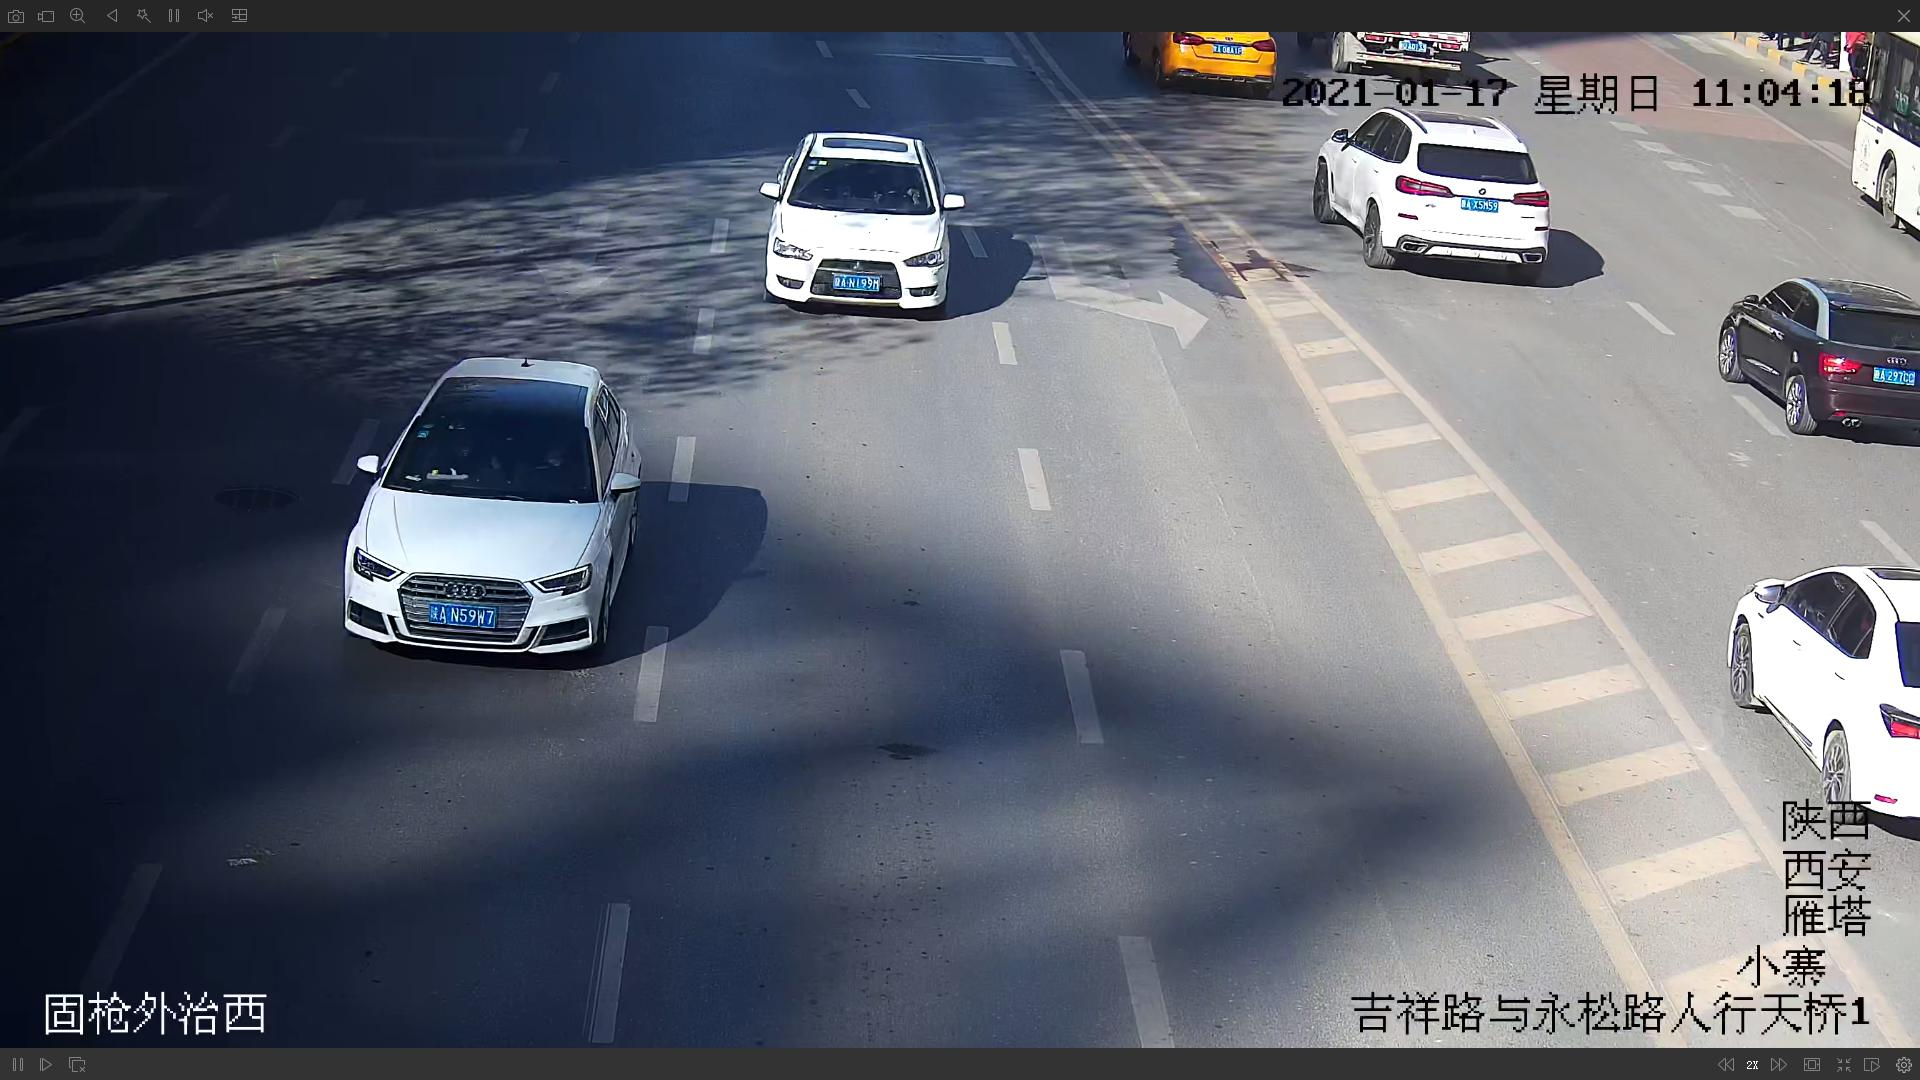white: (339, 352, 644, 661), (758, 132, 959, 313)
